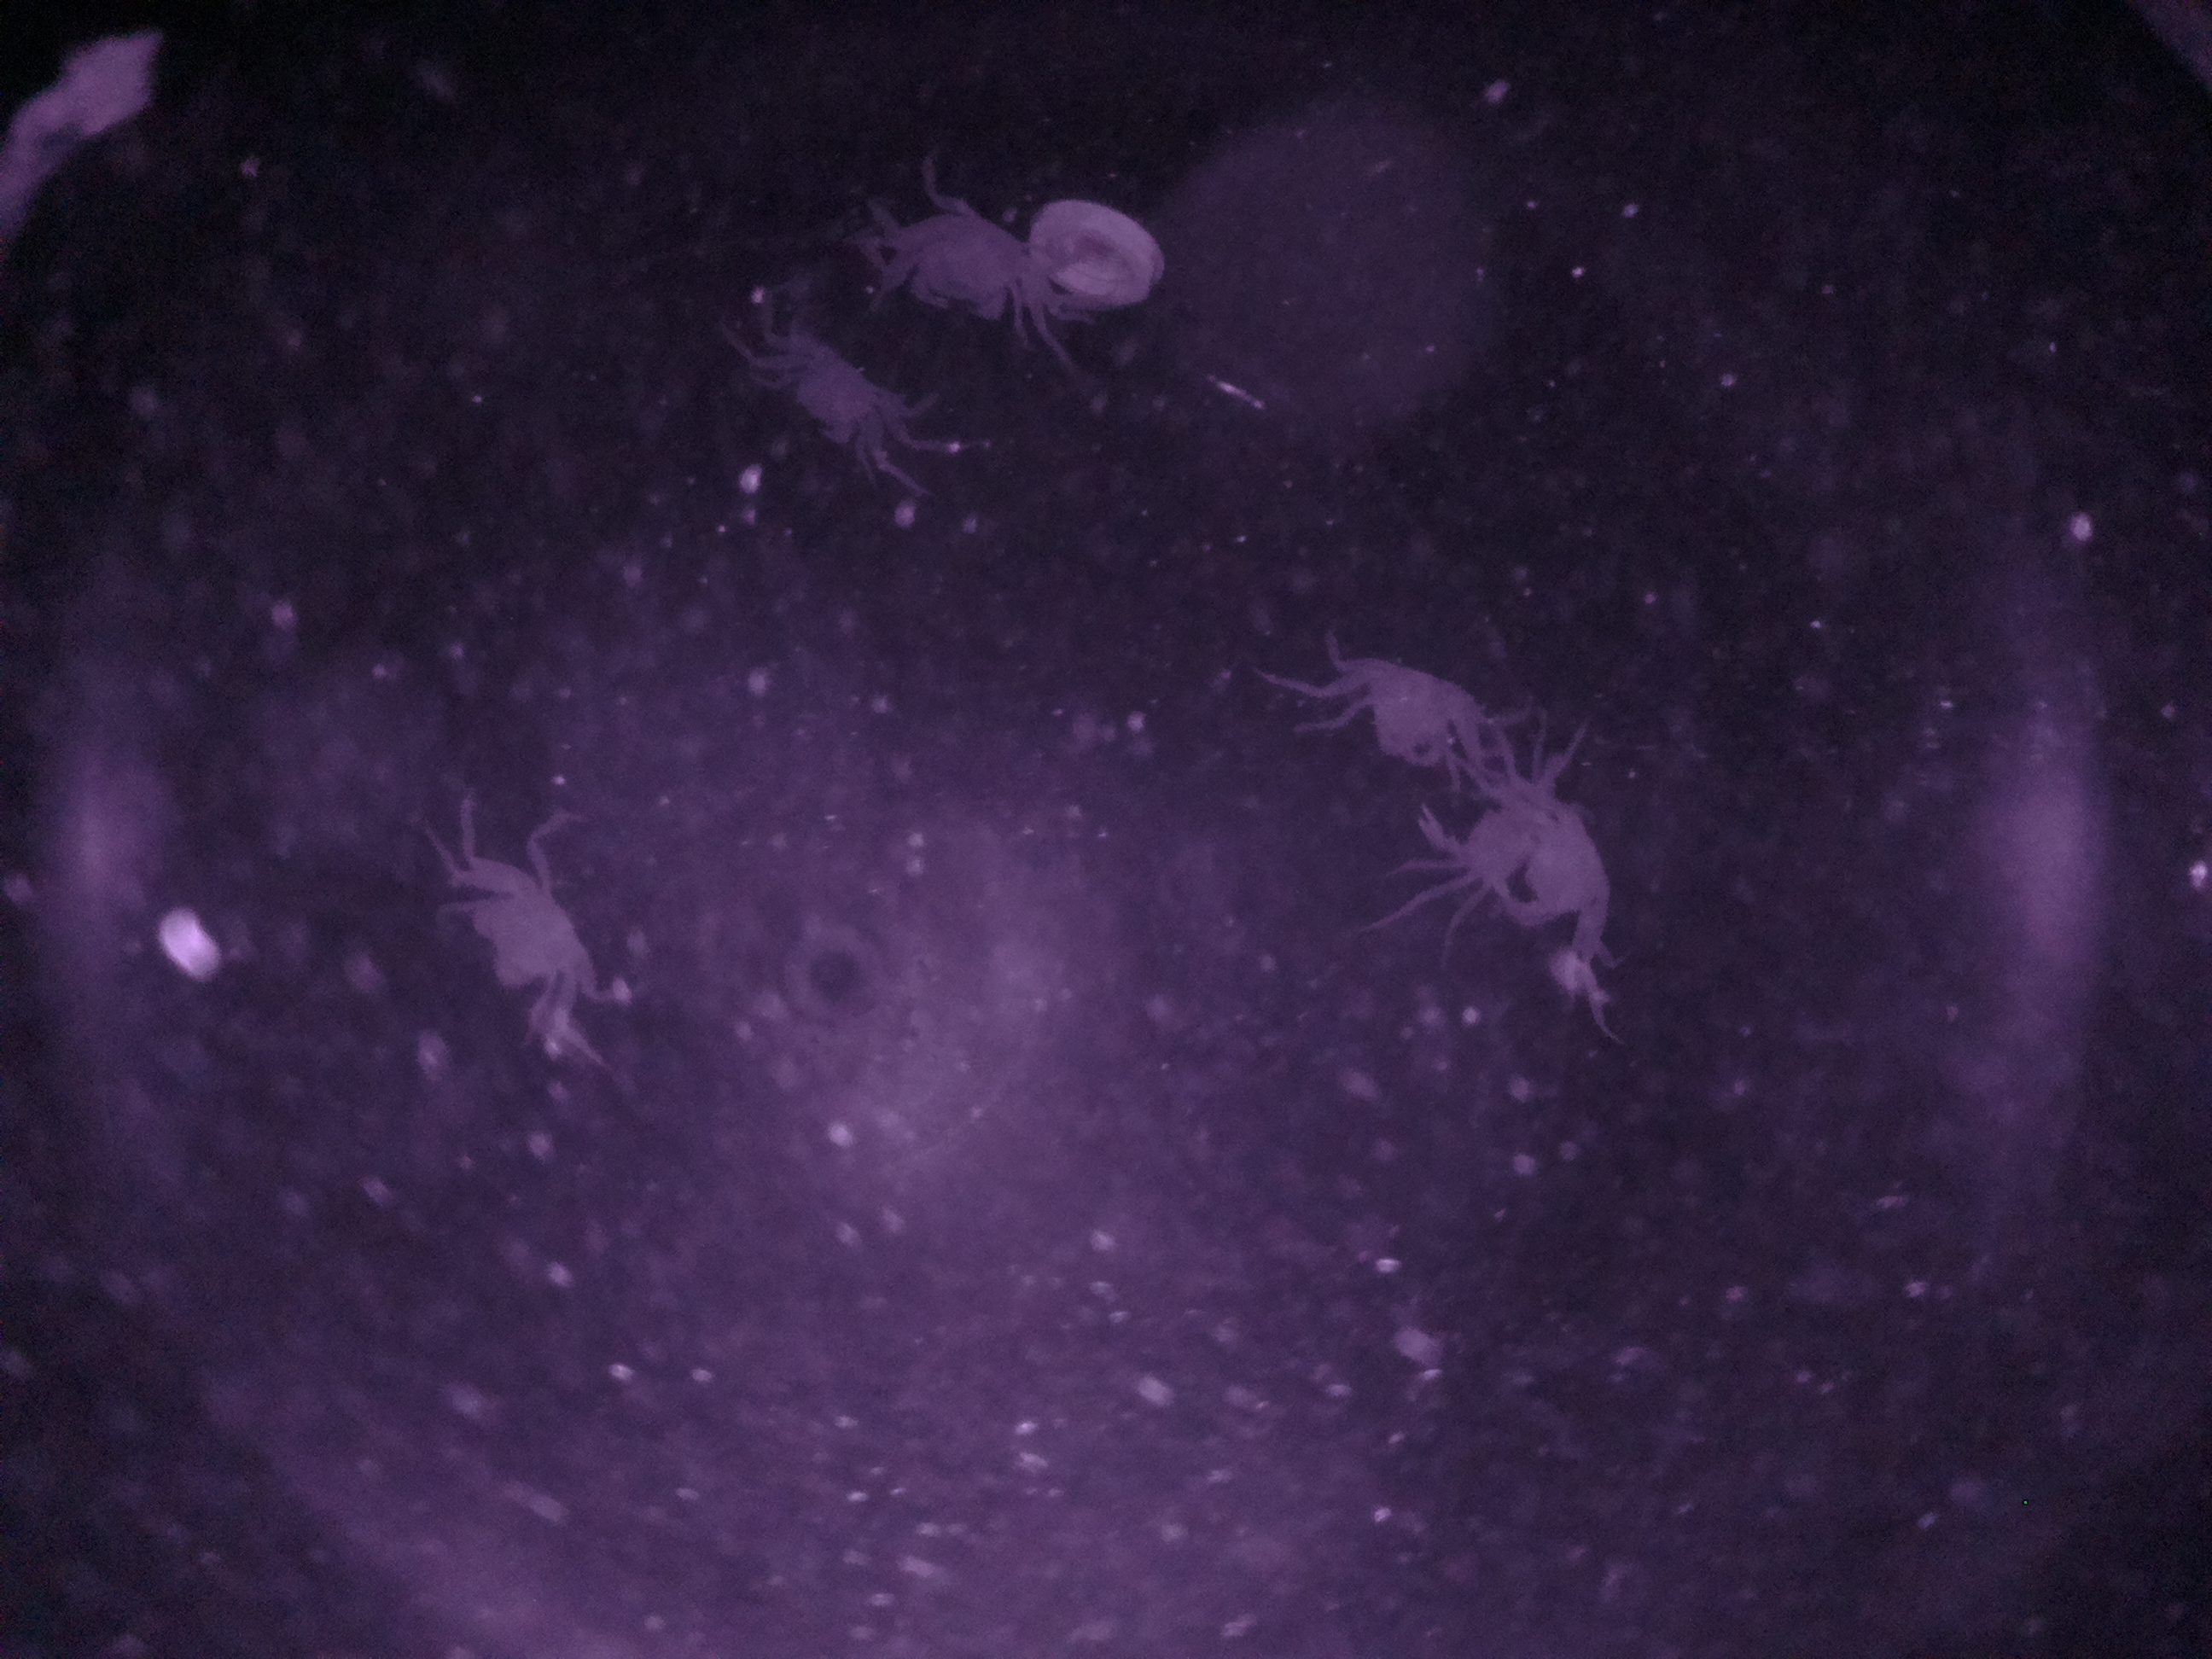Crab: (448, 819, 618, 1037), (744, 324, 921, 486)
